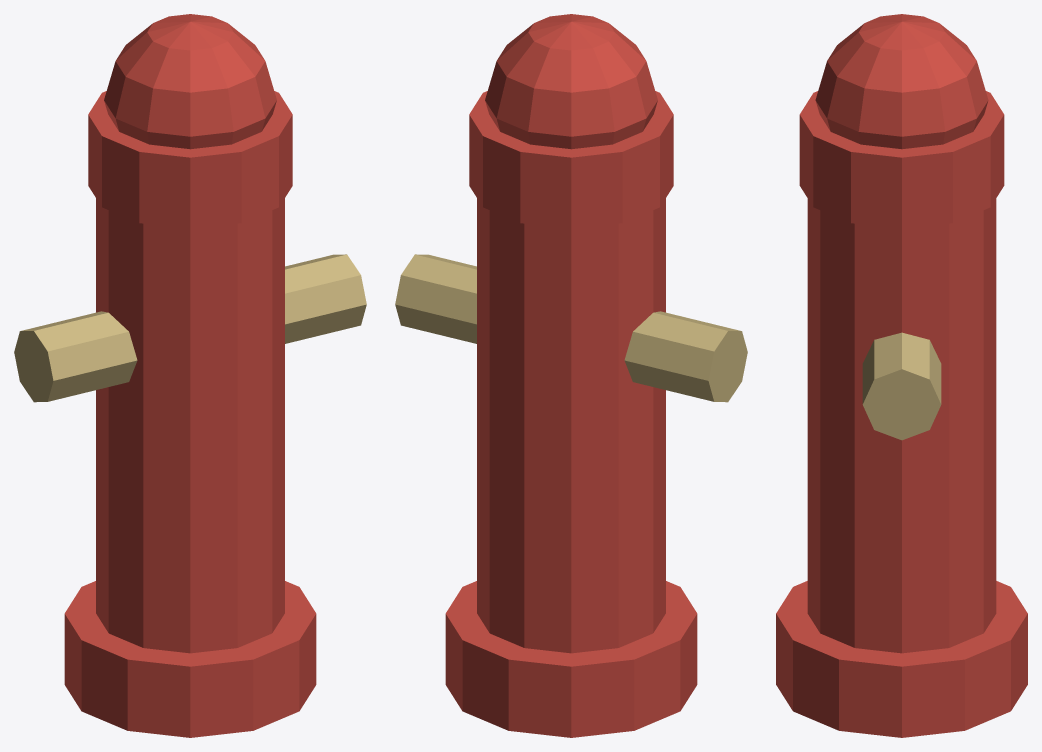
File: SM_FireHydrant_A.fbx
3 renders of one model, left to right at view 1: azimuth 30°, elevation 25°; view 2: azimuth 150°, elevation 25°; view 3: azimuth 270°, elevation 25°, orthographic.
Visible parts, largest first — view 1: SM_FireHydrant_A_LOD0; view 2: SM_FireHydrant_A_LOD0; view 3: SM_FireHydrant_A_LOD0.
Boxes of the visible parts, left/top/right/bottom form: SM_FireHydrant_A_LOD0: left=14, top=14, right=366, bottom=737; SM_FireHydrant_A_LOD0: left=395, top=14, right=747, bottom=737; SM_FireHydrant_A_LOD0: left=776, top=14, right=1027, bottom=737.
Size of what is drawn, in the model's own units: 0.46 by 0.93 by 0.32.
